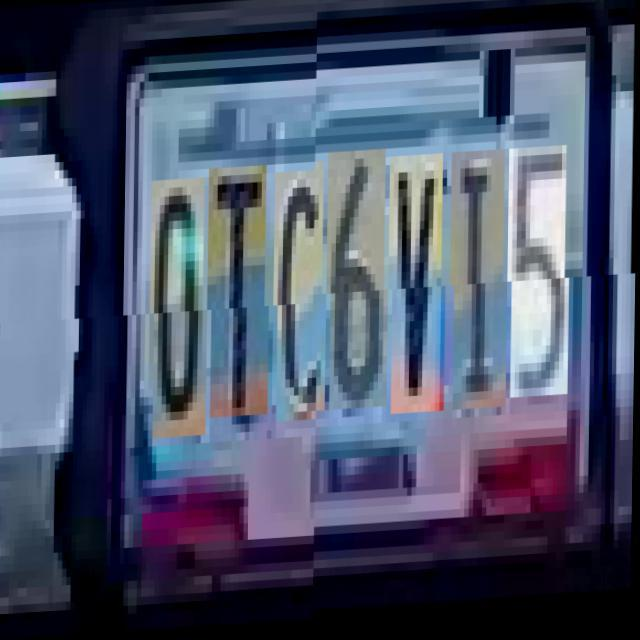5: (512, 161, 572, 414)
6: (330, 162, 390, 423)
C: (278, 174, 329, 426)
I: (454, 164, 510, 424)
O: (154, 180, 210, 440)
T: (212, 168, 272, 421)
V: (392, 168, 448, 428)
